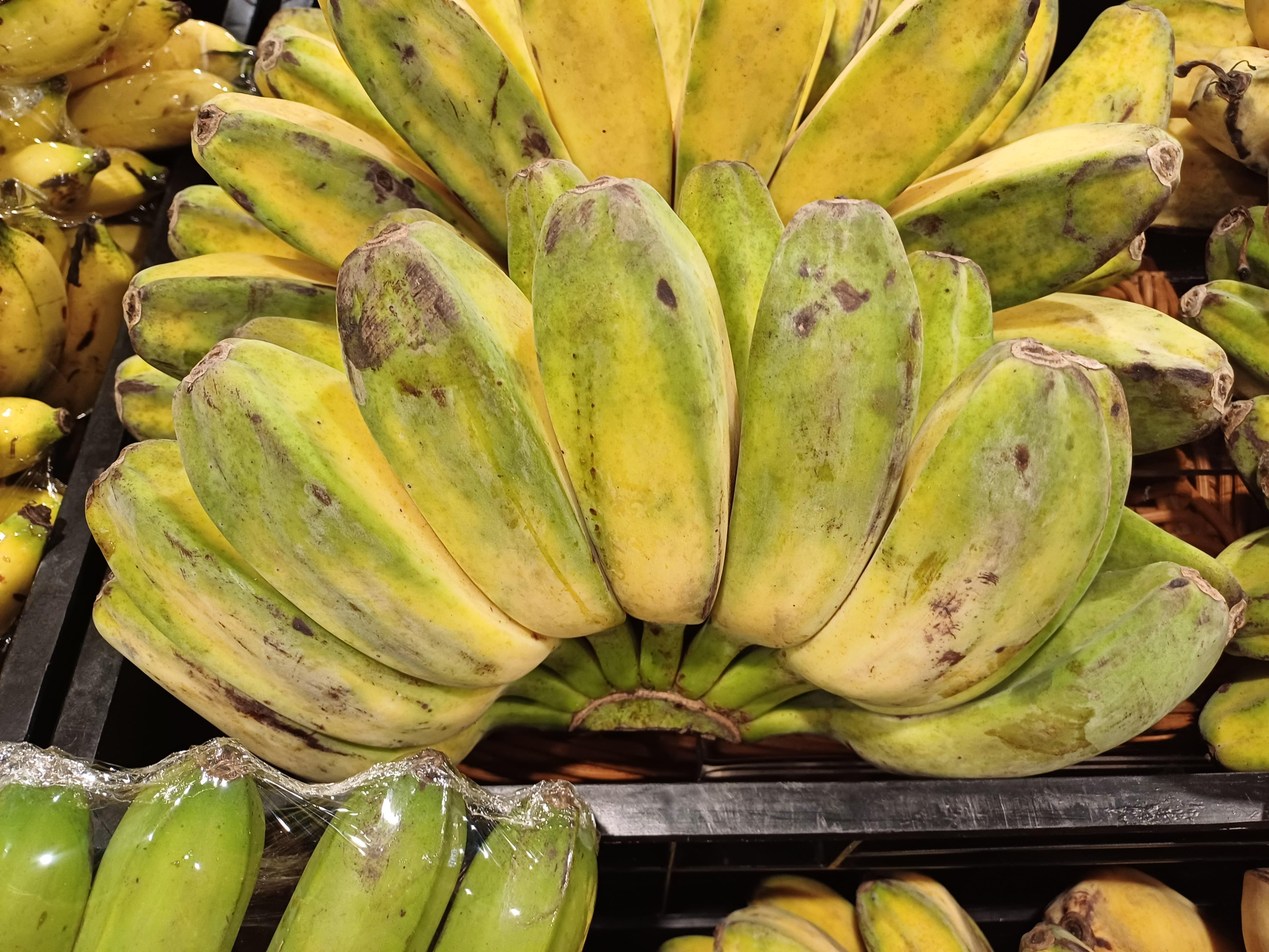underripe: (86, 160, 1248, 781), (116, 0, 1231, 452)
